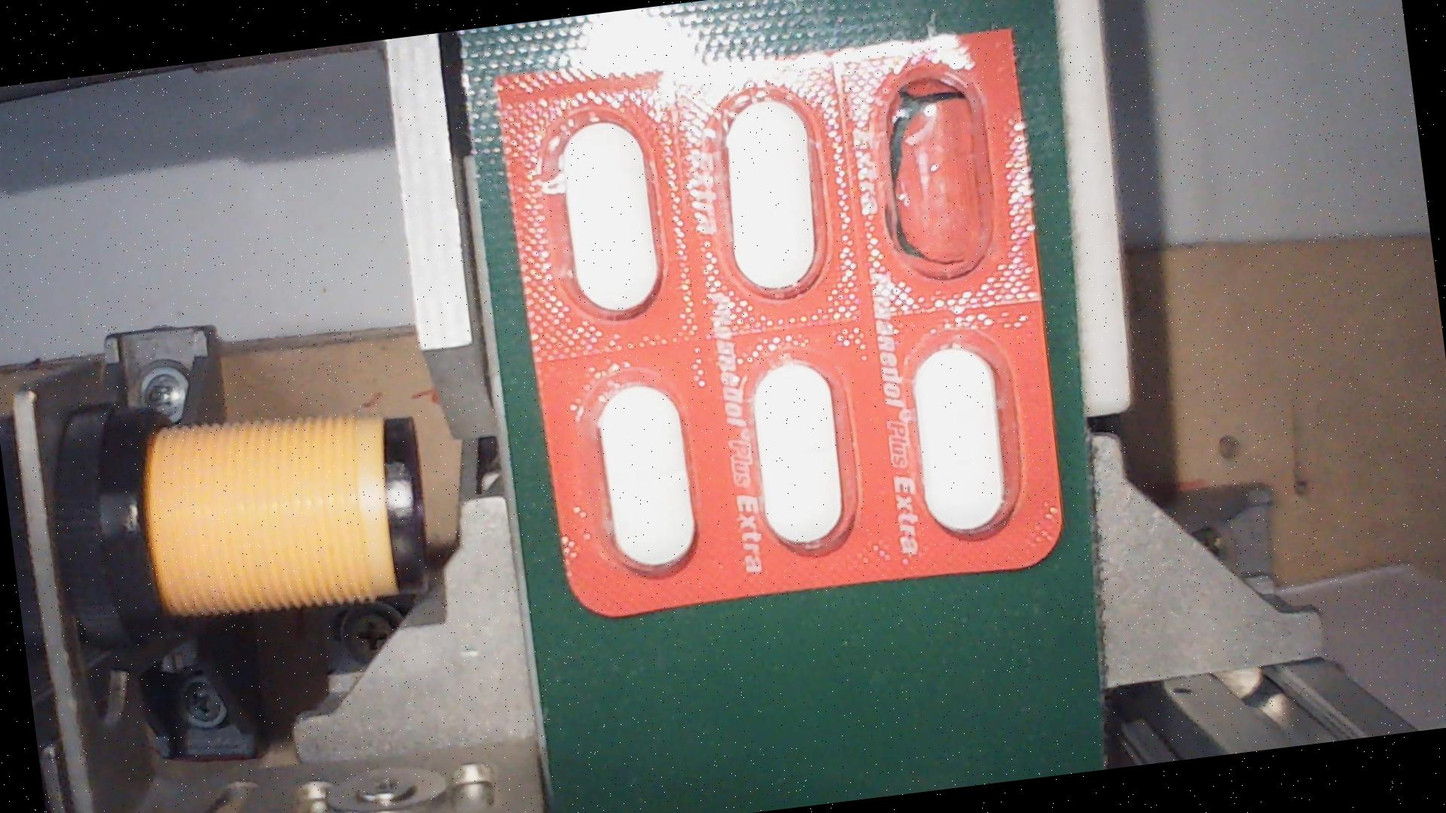Empty: (865, 55, 1006, 293)
Full: (891, 314, 1033, 552), (573, 356, 715, 594), (537, 105, 679, 343), (728, 331, 869, 569), (701, 77, 842, 315)
